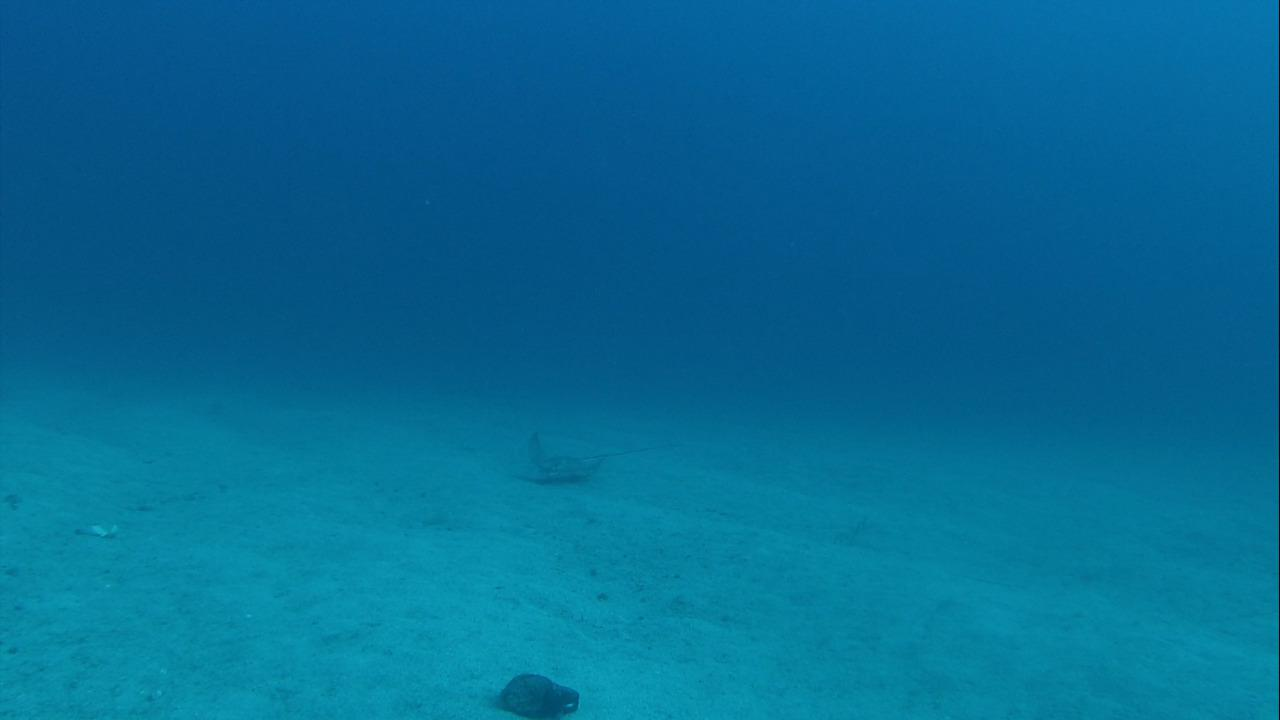myliobatis: (514, 426, 623, 480)
